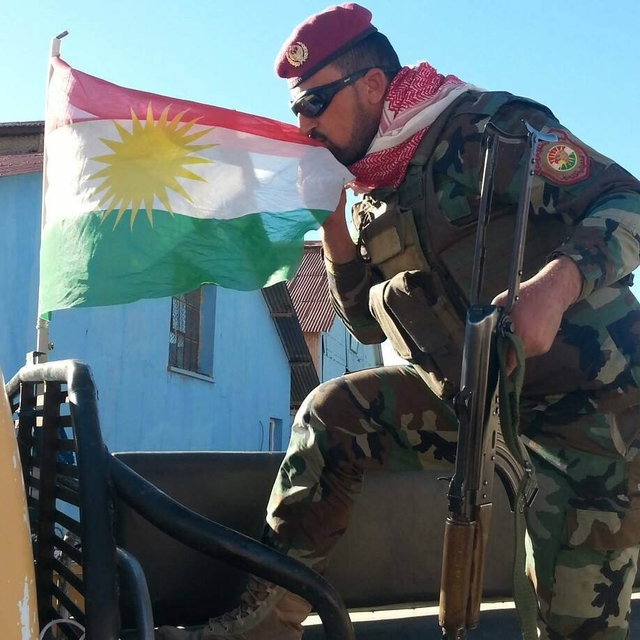AK47: (443, 237, 569, 640)
IBKY: (79, 87, 281, 259)
